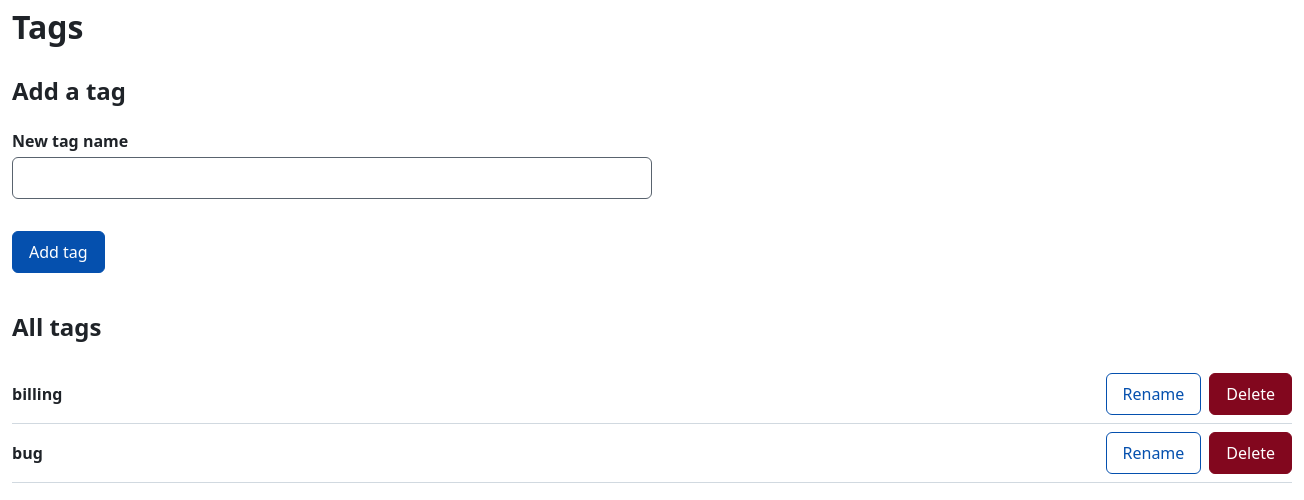
TagsPage › deletes a tag when confirmed
The width and height of the screenshot is (1304, 500).
Expected: the text "billing" is shown, [12,383,62,405]
Click the button with aria-label "Delete bug" at (1251, 453), box [1209,432,1292,474]
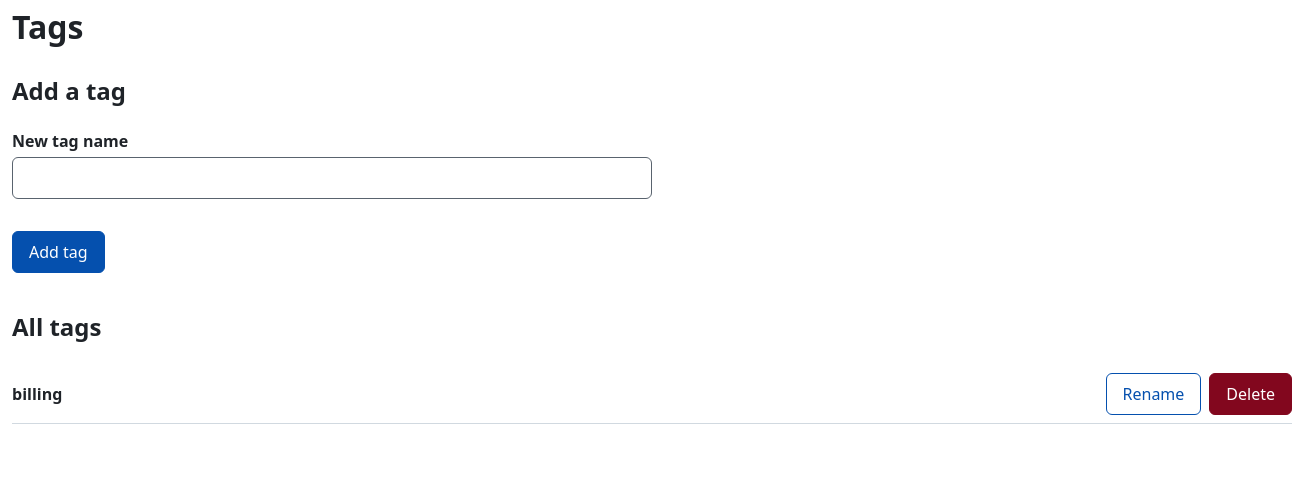
Expected: the text "billing" is shown, [12,383,62,405]
Now the number of list items is 1, box [12,365,1292,424]
